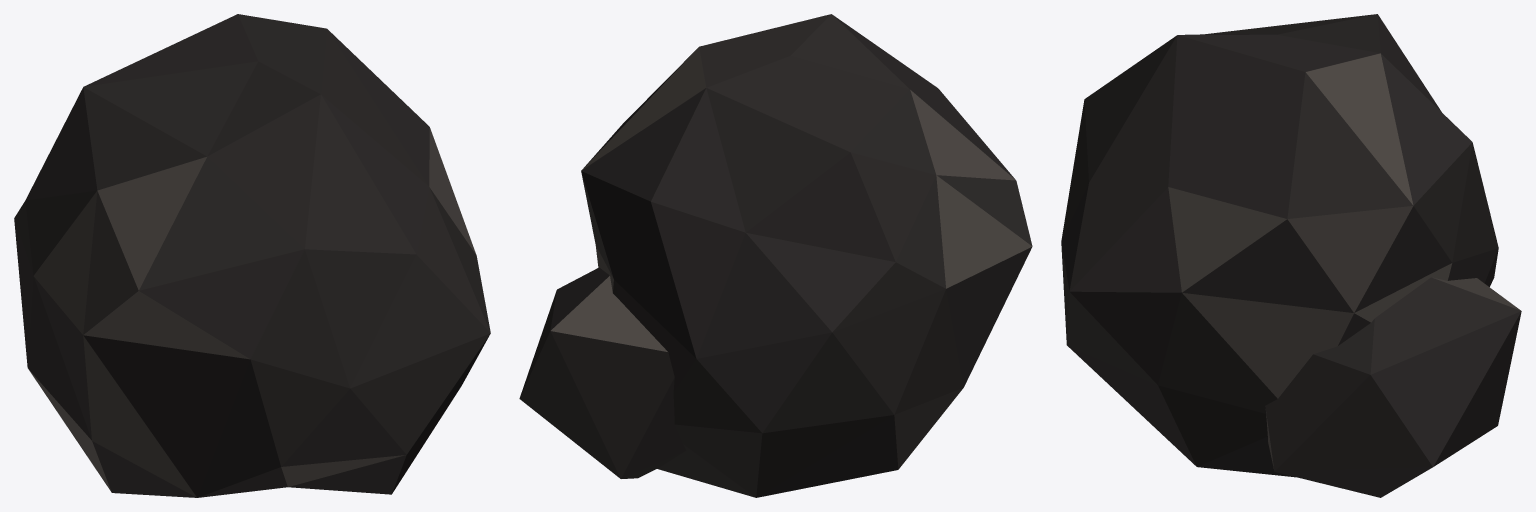
The model's file is BigCoal.fbx.
The picture shows the model from 3 angles, left to right: view 1: azimuth 30°, elevation 25°; view 2: azimuth 150°, elevation 25°; view 3: azimuth 270°, elevation 25°; orthographic projection. The views are drawn at different scales.
Parts seen in each view (by area): view 1: BigCoal; view 2: BigCoal; view 3: BigCoal.
Part boxes in pixels (bbox=[...]): BigCoal: bbox=[14, 14, 490, 497]; BigCoal: bbox=[519, 14, 1032, 497]; BigCoal: bbox=[1061, 14, 1521, 497].
Bounding box in the file's own units: 2 × 2 × 2.
Materials: 1 (1 with a texture image).
